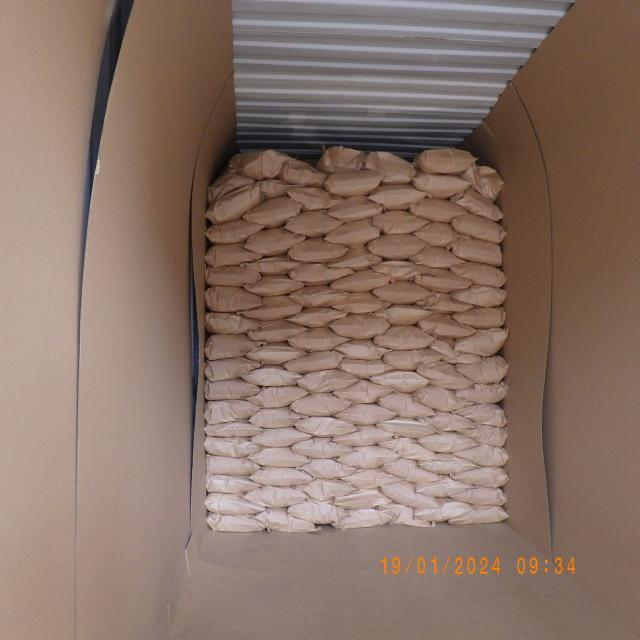gunny_bag: (207, 184, 260, 225), (231, 150, 296, 180), (449, 212, 506, 244), (381, 479, 439, 510), (412, 170, 470, 199), (451, 260, 507, 290), (456, 190, 504, 224), (244, 198, 302, 226), (246, 229, 306, 256), (256, 508, 316, 535), (383, 458, 444, 484), (378, 391, 436, 418), (368, 234, 428, 260), (454, 329, 509, 357), (462, 164, 504, 200), (251, 466, 314, 490), (416, 148, 478, 172), (375, 325, 434, 350), (322, 172, 386, 195), (336, 446, 400, 469), (432, 336, 481, 366), (366, 150, 418, 178), (204, 172, 256, 200), (453, 358, 509, 384), (380, 502, 436, 528), (328, 270, 394, 292), (205, 287, 263, 312), (366, 184, 426, 208), (330, 314, 390, 338), (416, 314, 476, 338), (418, 364, 473, 390), (289, 499, 348, 523), (416, 222, 470, 248), (284, 213, 342, 237), (324, 220, 382, 244), (373, 280, 430, 304), (203, 311, 260, 335), (205, 357, 262, 381), (332, 380, 394, 402), (203, 399, 262, 422), (414, 198, 466, 224), (240, 297, 301, 319), (328, 198, 386, 221), (290, 285, 348, 308), (203, 335, 261, 358), (370, 369, 428, 392), (416, 386, 474, 409), (452, 443, 510, 466), (290, 328, 350, 350), (298, 370, 358, 392), (290, 394, 350, 416), (415, 270, 472, 293), (292, 438, 354, 459), (314, 145, 364, 171), (286, 184, 340, 208), (336, 403, 397, 424), (290, 264, 354, 284), (244, 486, 308, 506), (384, 346, 442, 368), (334, 507, 392, 529), (372, 210, 427, 233), (245, 344, 308, 364), (281, 352, 344, 372), (334, 292, 391, 314), (379, 438, 436, 460), (452, 240, 504, 264), (456, 404, 508, 428), (302, 478, 356, 501), (288, 240, 350, 260), (248, 388, 310, 408), (294, 417, 356, 437), (416, 433, 478, 453), (414, 453, 476, 473), (454, 484, 507, 507), (204, 265, 262, 286), (414, 293, 472, 314), (278, 162, 328, 186), (206, 222, 266, 242), (242, 256, 302, 276), (247, 322, 307, 342), (334, 426, 394, 446), (298, 458, 358, 478), (251, 447, 310, 467), (205, 494, 264, 514), (251, 428, 313, 447), (413, 248, 466, 270), (454, 306, 506, 328), (245, 276, 305, 295), (203, 436, 260, 456), (332, 489, 392, 508), (331, 248, 382, 270), (290, 307, 346, 327), (336, 342, 392, 362), (204, 455, 260, 475), (416, 476, 472, 496), (416, 501, 472, 521), (204, 246, 262, 265), (206, 474, 261, 494), (447, 288, 508, 306), (244, 366, 298, 386), (456, 384, 510, 404), (206, 516, 266, 534), (376, 421, 438, 438), (376, 260, 428, 280), (422, 412, 474, 432), (456, 426, 508, 446), (451, 467, 508, 485), (346, 468, 402, 486), (338, 360, 393, 378), (204, 382, 260, 399), (250, 408, 302, 426), (373, 308, 431, 324), (252, 175, 292, 198), (451, 508, 508, 524), (204, 423, 263, 437)
